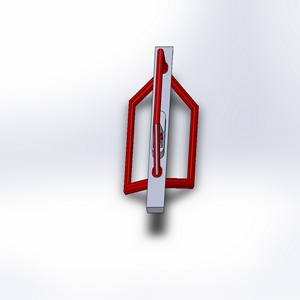submarine: (101, 37, 222, 228)
